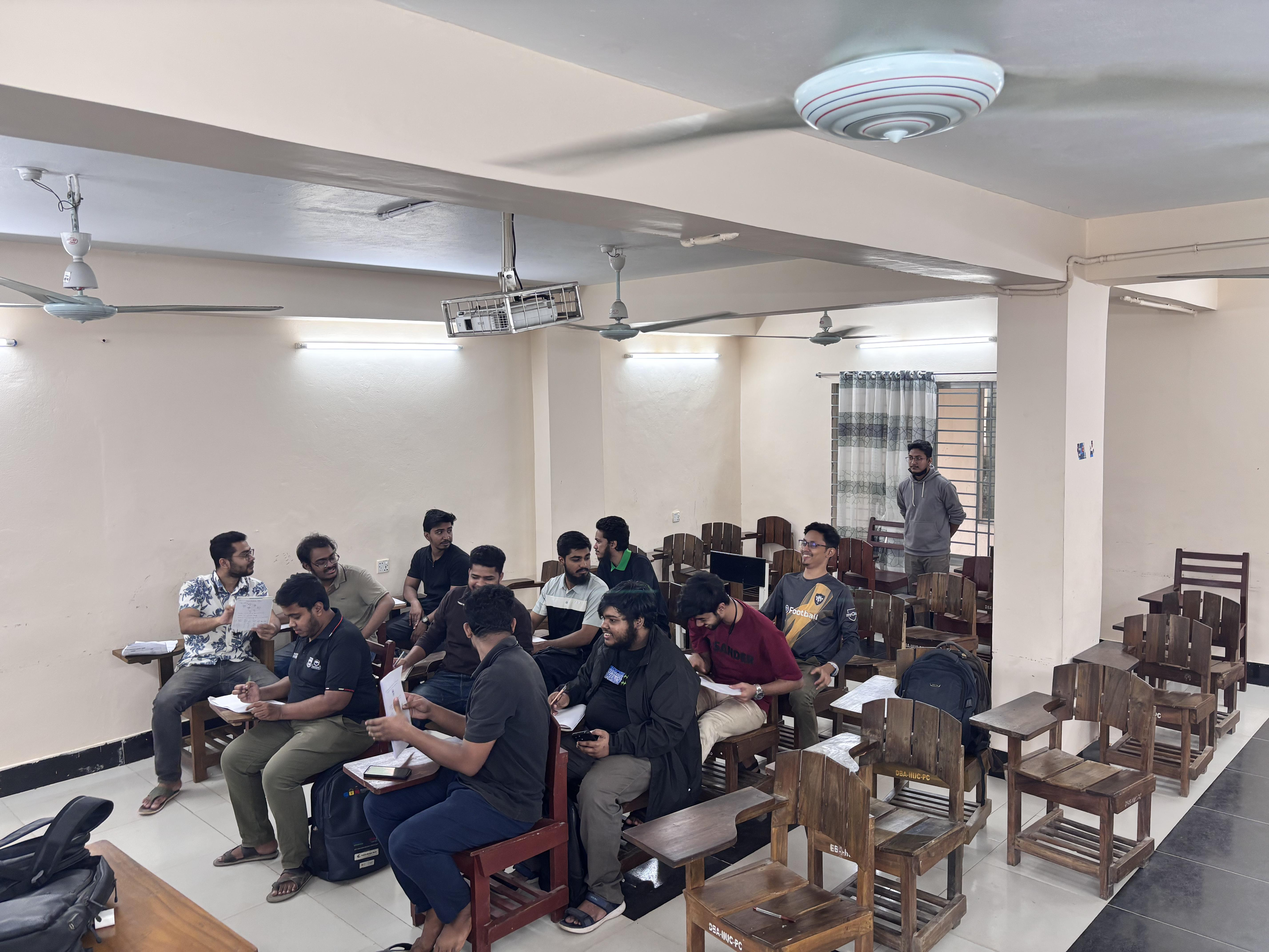copying: (151, 518, 281, 697), (528, 522, 604, 657)
invigilator: (880, 428, 978, 573)
no_cheating: (225, 571, 379, 868), (664, 574, 800, 782)
side_talking: (355, 576, 556, 895), (547, 586, 683, 858), (766, 516, 875, 691), (278, 522, 400, 608), (402, 498, 474, 613), (578, 509, 653, 600)
